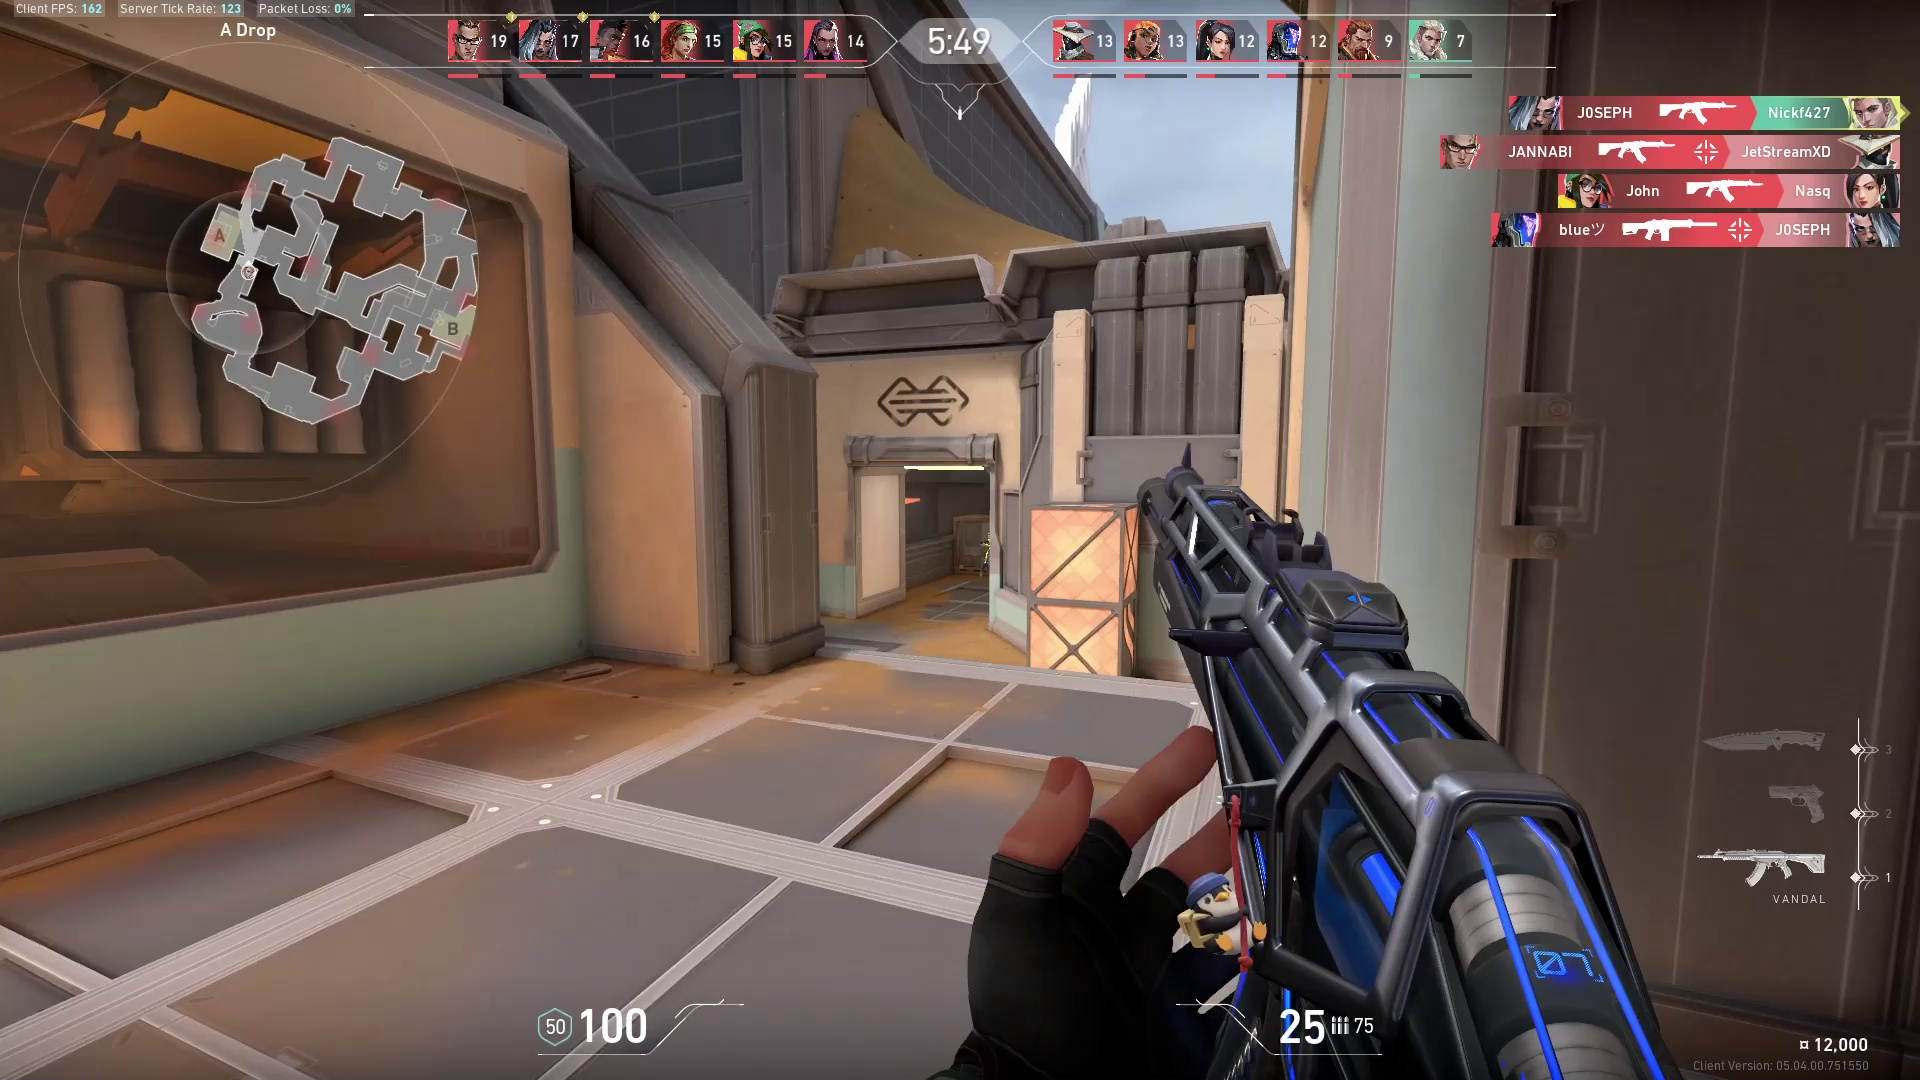enemy_body: (978, 541, 991, 577)
enemy_head: (986, 532, 990, 539)
